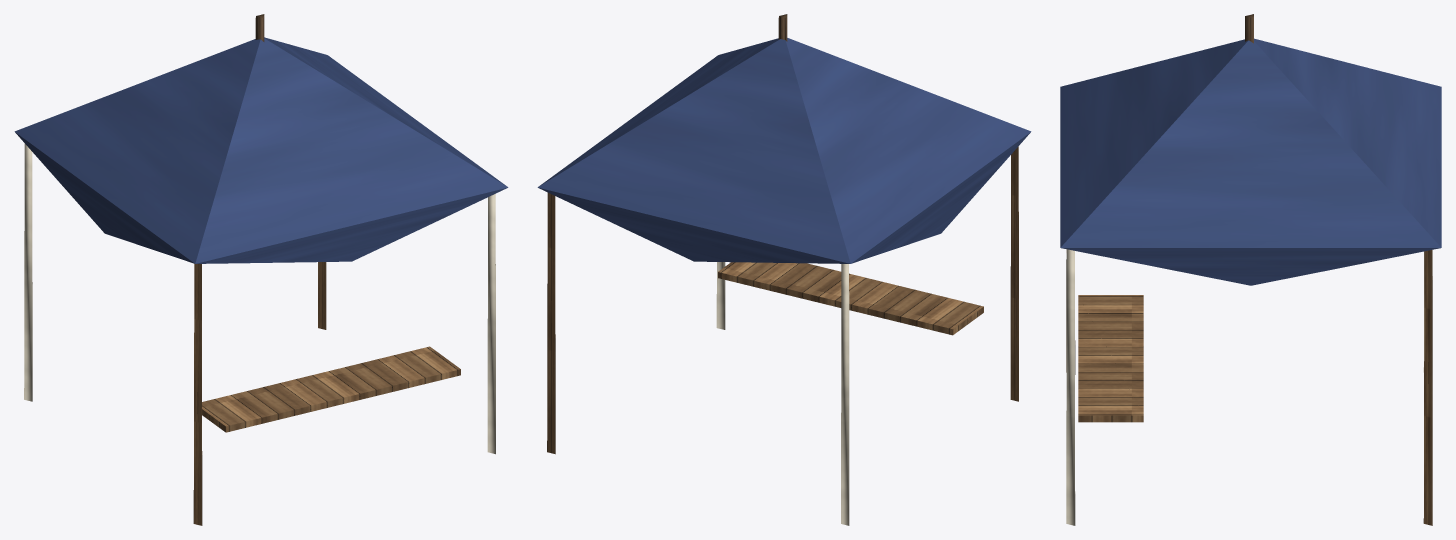
File: Stall_Tent_Market_3_LOD2.gltf
The picture shows the model from 3 angles, left to right: view 1: azimuth 30°, elevation 25°; view 2: azimuth 150°, elevation 25°; view 3: azimuth 270°, elevation 25°; orthographic projection. The views are drawn at different scales.
Visible parts, largest first — view 1: Stall_Tent_Market_3_LOD2; view 2: Stall_Tent_Market_3_LOD2; view 3: Stall_Tent_Market_3_LOD2.
Boxes of the visible parts, x1,y1,x2,y2 form: Stall_Tent_Market_3_LOD2: (14,14,508,525); Stall_Tent_Market_3_LOD2: (537,14,1031,525); Stall_Tent_Market_3_LOD2: (1060,14,1441,525).
Size of the model in its own units: 3.2 by 4 by 3.2.
4 materials, 4 textured.
